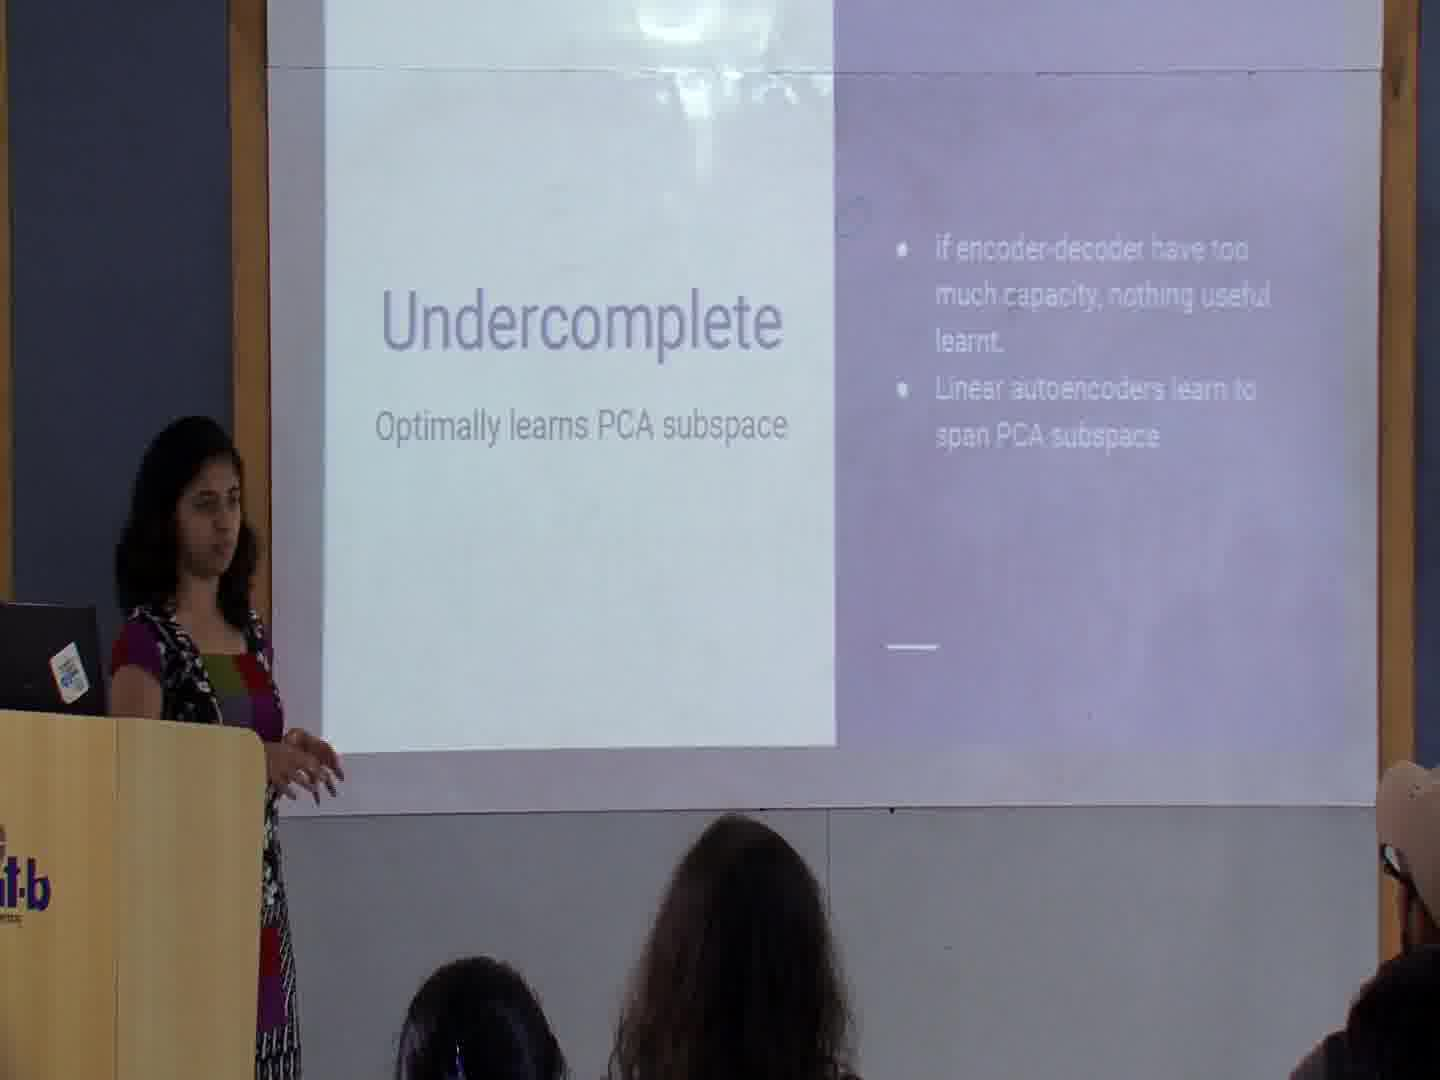slide: (321, 2, 1346, 744)
